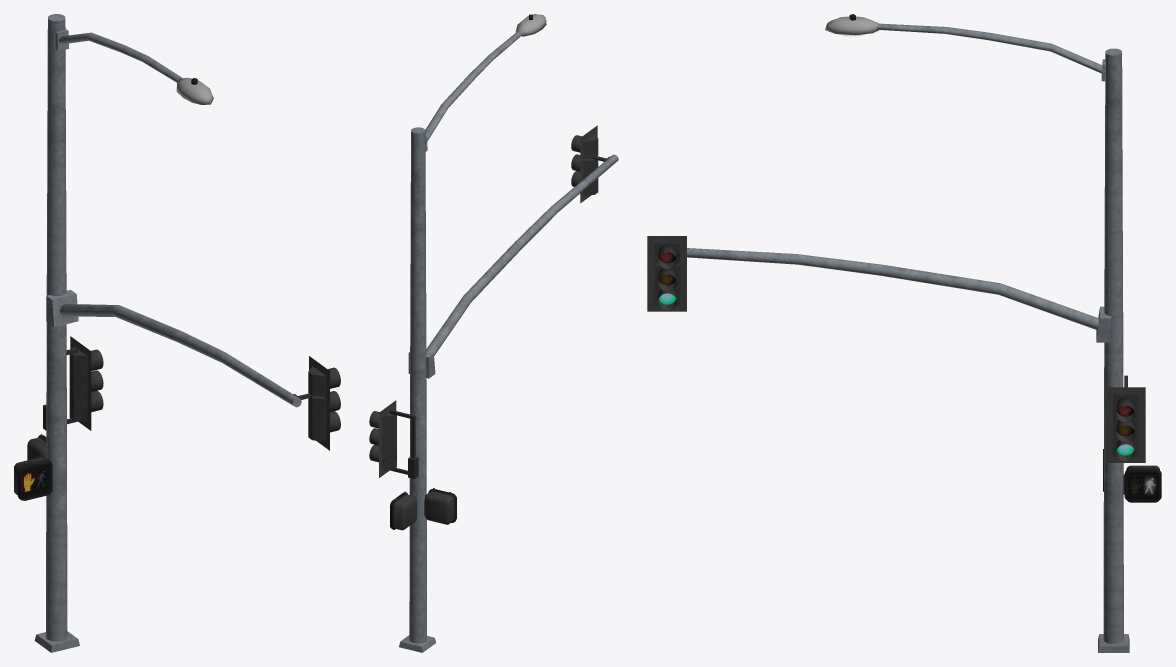
The model's file is low_poly__game_ready_traffic_light.glb.
3 views of the same model, side by side, from view 1: azimuth 30°, elevation 25°; view 2: azimuth 150°, elevation 25°; view 3: azimuth 270°, elevation 25° (orthographic). The views are drawn at different scales.
Parts seen in each view (by area): view 1: Cylinder.218_17, Urban_Sprawl_2.026_1, Cube.102_11, Cube.103_15, hous.026_4, Cylinder.155_9, Plane.041_22, Plane.023_10, Cube.101_8; view 2: Cylinder.218_17, Urban_Sprawl_2.026_1, Urban_Sprawl_2.027_5, Cube.102_11, Cube.065_7, Cylinder.155_9, Cube.103_15; view 3: Cylinder.218_17, Plane.023_10, Plane.041_22, Urban_Sprawl_2.027_5, Cylinder.155_9, hous.025_3.
Boxes of the visible parts, left/top/right/bottom form: Cylinder.218_17: left=34, top=14, right=301, bottom=652; Urban_Sprawl_2.026_1: left=14, top=457, right=52, bottom=500; Cube.102_11: left=69, top=346, right=87, bottom=421; Cube.103_15: left=308, top=396, right=326, bottom=441; hous.026_4: left=21, top=462, right=52, bottom=500; Cylinder.155_9: left=176, top=77, right=213, bottom=104; Plane.041_22: left=70, top=336, right=91, bottom=430; Plane.023_10: left=309, top=356, right=329, bottom=450; Cube.101_8: left=308, top=366, right=326, bottom=396; Cylinder.218_17: left=399, top=31, right=618, bottom=652; Urban_Sprawl_2.026_1: left=425, top=488, right=456, bottom=524; Urban_Sprawl_2.027_5: left=390, top=491, right=416, bottom=530; Cube.102_11: left=382, top=409, right=396, bottom=470; Cube.065_7: left=389, top=410, right=418, bottom=478; Cylinder.155_9: left=515, top=14, right=546, bottom=36; Cube.103_15: left=583, top=158, right=598, bottom=195; Cylinder.218_17: left=687, top=23, right=1129, bottom=652; Plane.023_10: left=647, top=236, right=686, bottom=311; Plane.041_22: left=1106, top=387, right=1145, bottom=462; Urban_Sprawl_2.027_5: left=1124, top=465, right=1161, bottom=502; Cylinder.155_9: left=825, top=14, right=878, bottom=36; hous.025_3: left=1126, top=471, right=1160, bottom=501.
Size of the model in its own units: 1.51 by 10.59 by 7.83.
14 materials, 11 textured.
